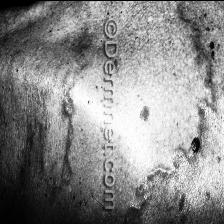Unclassified: (172, 134, 204, 174), (56, 92, 78, 117)
